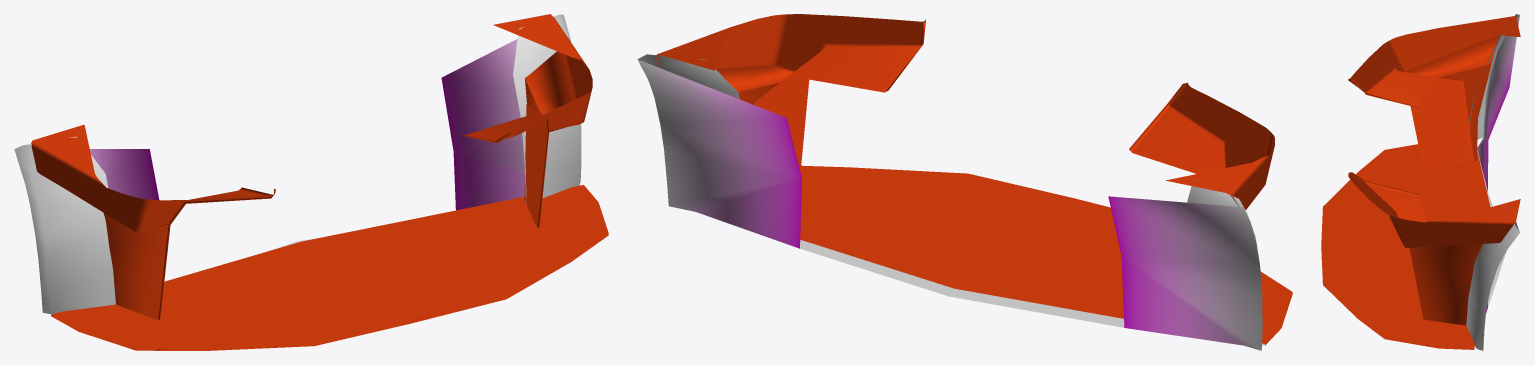
The model's file is Car_Nissan_SkylineGTRVspecR34_1999_BumperChassisF_SetF_AltC.fbx.
The picture shows the model from 3 angles, left to right: view 1: azimuth 30°, elevation 25°; view 2: azimuth 150°, elevation 25°; view 3: azimuth 270°, elevation 25°; orthographic projection. The views are drawn at different scales.
Visible parts, largest first — view 1: BumperChassisF 6; view 2: BumperChassisF 6; view 3: BumperChassisF 6.
Part boxes in pixels (<box>): BumperChassisF 6: <box>14,14,608,350</box>; BumperChassisF 6: <box>637,14,1292,350</box>; BumperChassisF 6: <box>1321,14,1520,350</box>.
Size of the model in its own units: 1.76 by 0.5042 by 0.6824.
